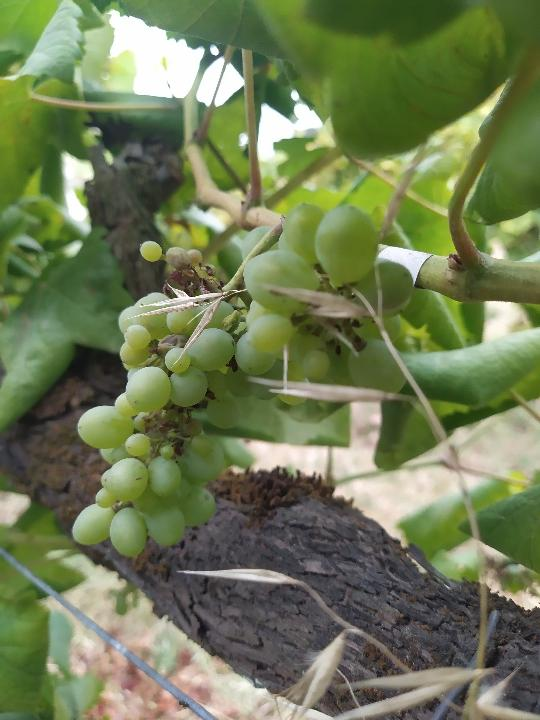grape: (67, 199, 416, 559)
